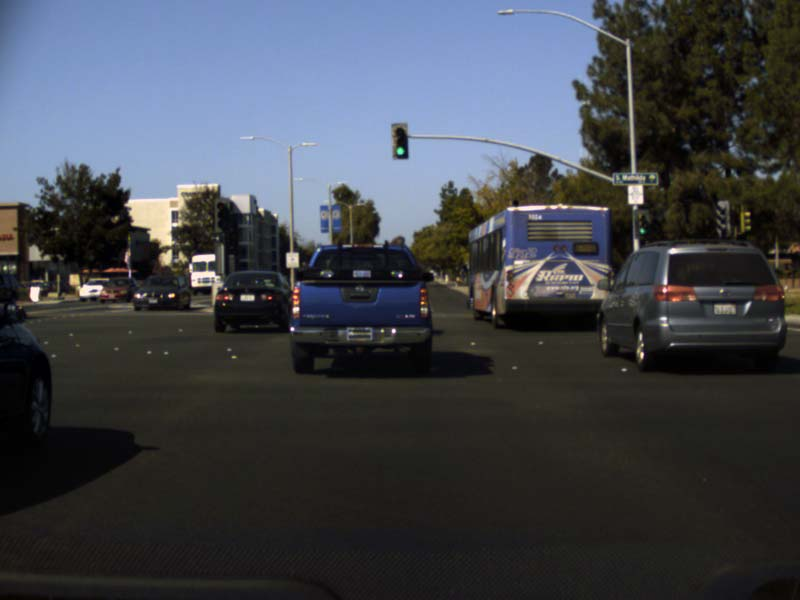Green: (391, 123, 409, 159), (634, 209, 650, 238)
